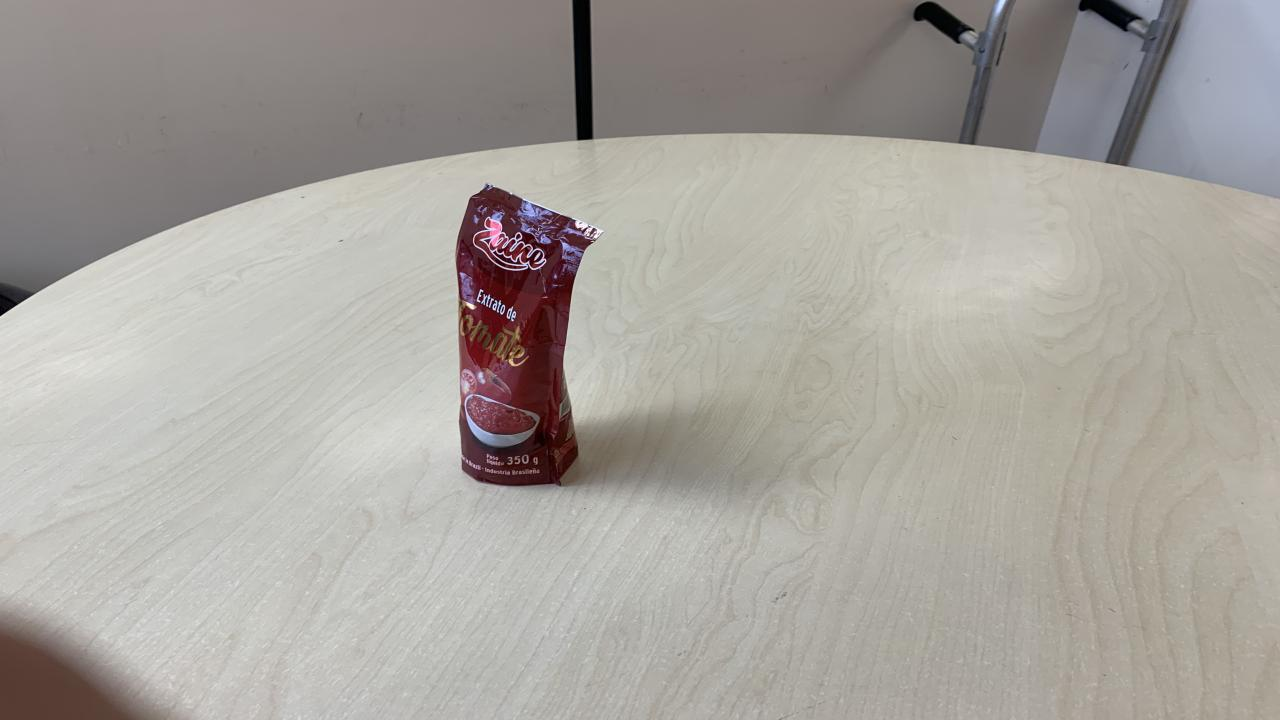Tomato_Sauce-Pantry_Items: (455, 187, 598, 488)
